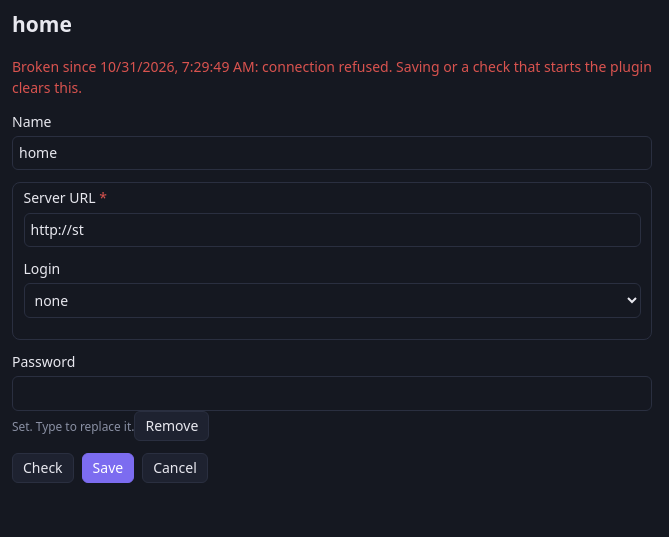
checks an instance and shows why it doesn't work
Click the button "Check" at (43, 468), box [12, 453, 74, 483]
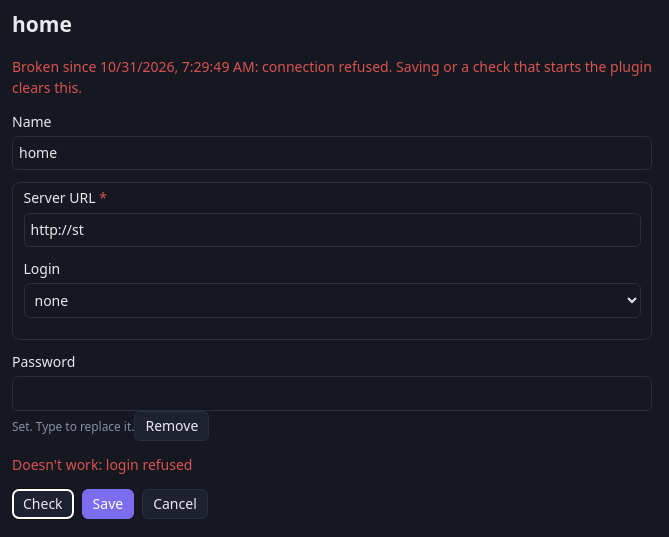
Result: the text "Doesn't work: login refused" is shown at [12, 455, 192, 474]
